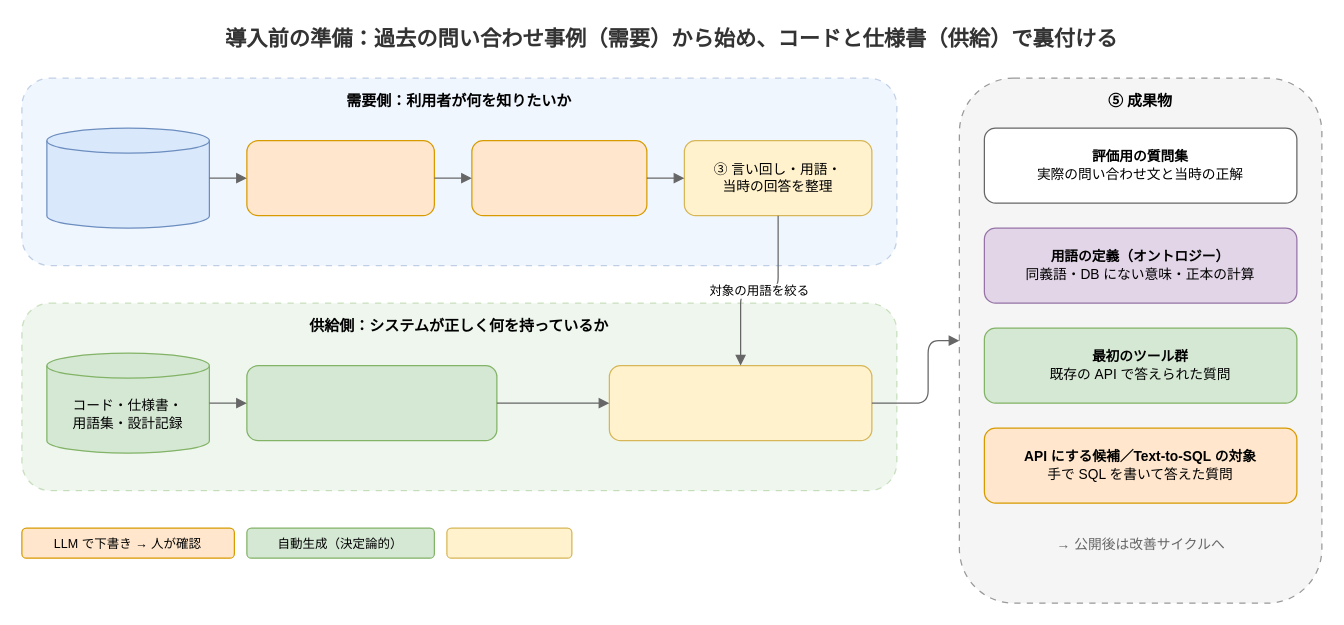
This 1344x625 diagram has some shape labels left out. The shapes that lost their labels are listed below. From the top down, each one's centre as x and y in pixels, then its label:
the point at 127,177: 課題管理の 過去の問い合わせ
the point at 340,177: ① データ照会を抜き出す （個人情報は伏せ字）
the point at 559,177: ② 意図ごとにまとめ 件数順に並べる
the point at 371,402: 機械的に取れる部分は自動生成 （モデル・API・権限の名前）
the point at 740,402: ④ 用語ごとに裏付ける 定義・正本の計算・API・権限
the point at 509,542: 人が判断
